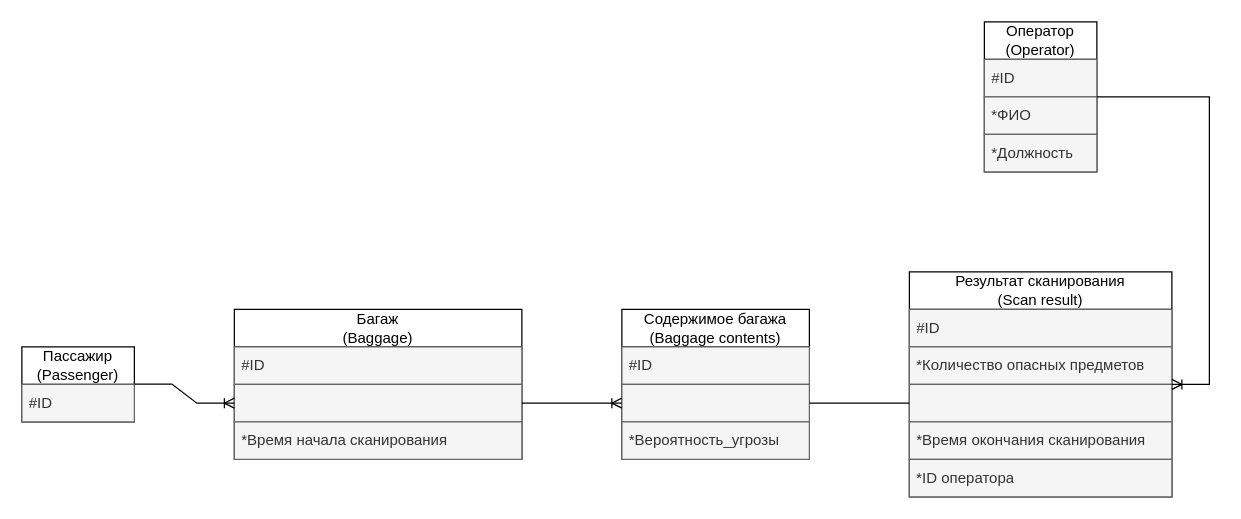
This 1241x519 diagram has some shape labels left out. The centre of each missing label's shape, as x and y in pixels:
"*Вариант допуска (true/false)" goes at pixel 1040 402.
"*Класс_предмета" goes at pixel 715 402.
"*Количество распознанных предметов" goes at pixel 377 402.
